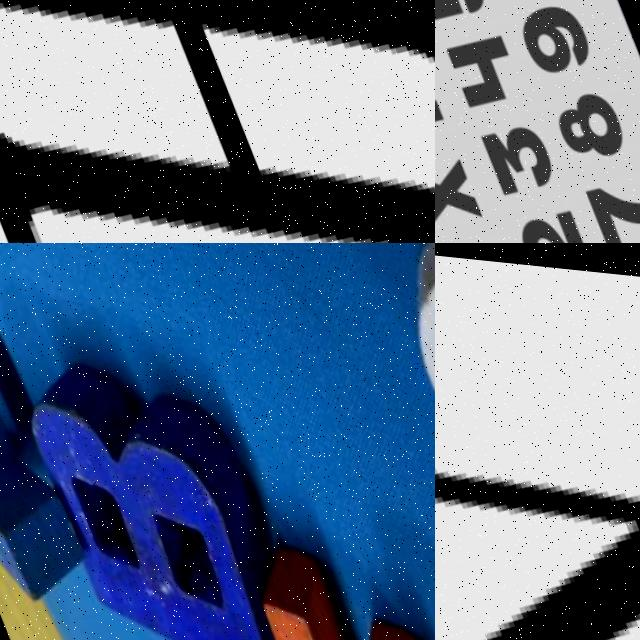2: (506, 191, 590, 243)
3: (468, 103, 554, 194)
4: (441, 20, 521, 106)
7: (576, 157, 640, 243)
8: (541, 68, 627, 157)
9: (506, 0, 595, 70)
B: (0, 309, 310, 640)
P: (0, 262, 58, 615)
V: (435, 243, 640, 640)
